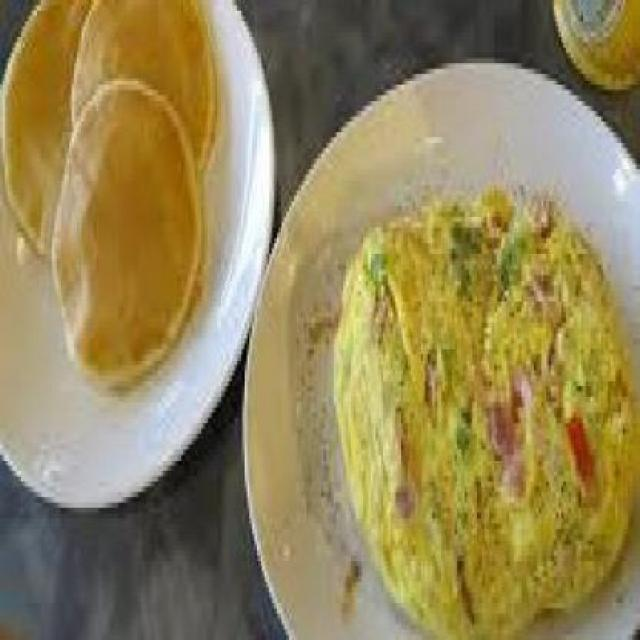omelette: (328, 179, 638, 635)
